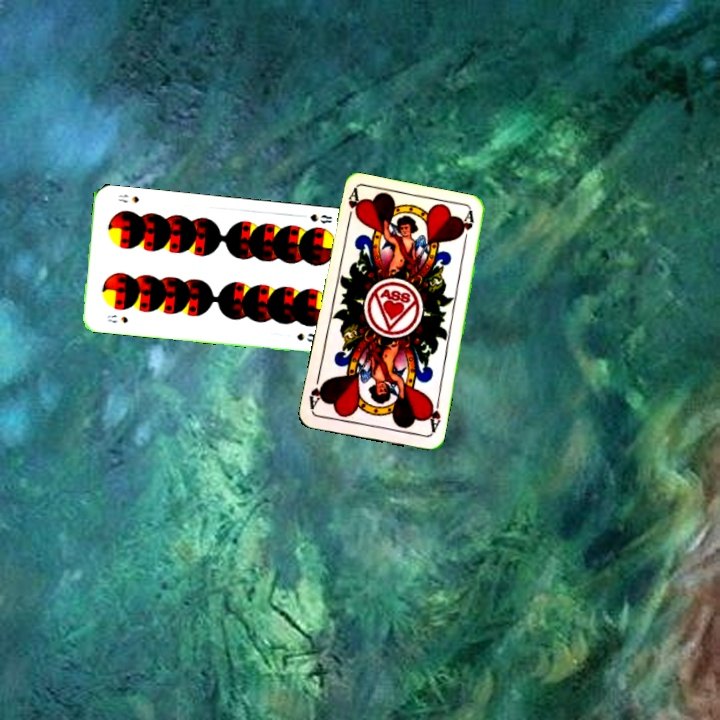HA: (343, 186, 363, 227), (423, 395, 443, 435)
S8: (296, 210, 335, 226), (103, 311, 130, 326)
